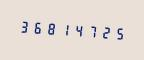eight: (43, 18, 55, 38)
five: (108, 22, 120, 43)
four: (69, 19, 81, 40)
one: (56, 18, 68, 39)
seven: (82, 20, 94, 41)
six: (30, 17, 42, 37)
three: (17, 16, 29, 36)
two: (95, 21, 107, 42)
